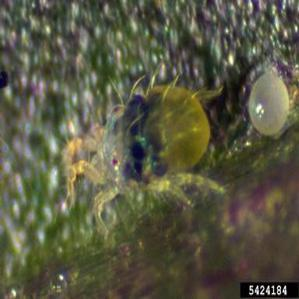spider mite: (36, 73, 227, 264)
